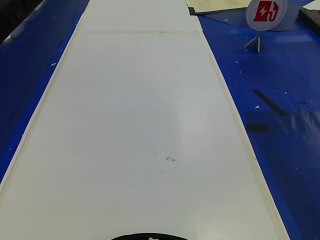battery: (241, 0, 285, 32)
